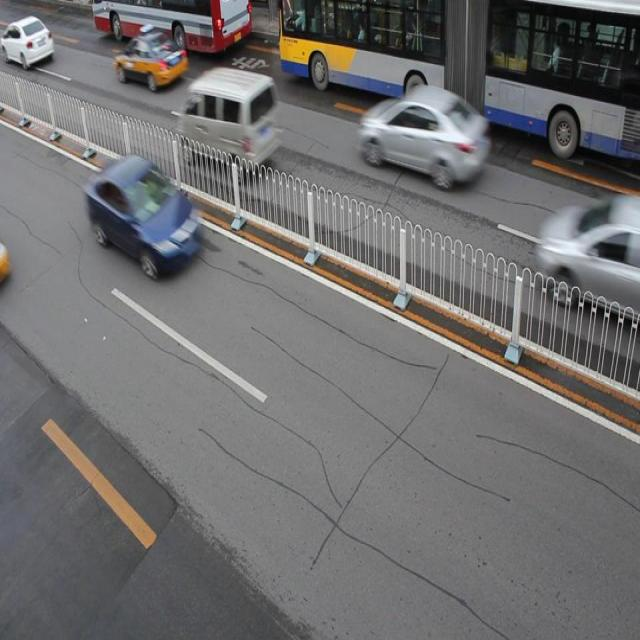car: (84, 152, 195, 275), (538, 191, 640, 323), (359, 85, 488, 186), (114, 26, 188, 90), (1, 15, 54, 70)
truck: (177, 66, 280, 177)
van: (280, 1, 640, 154), (93, 1, 250, 55)
